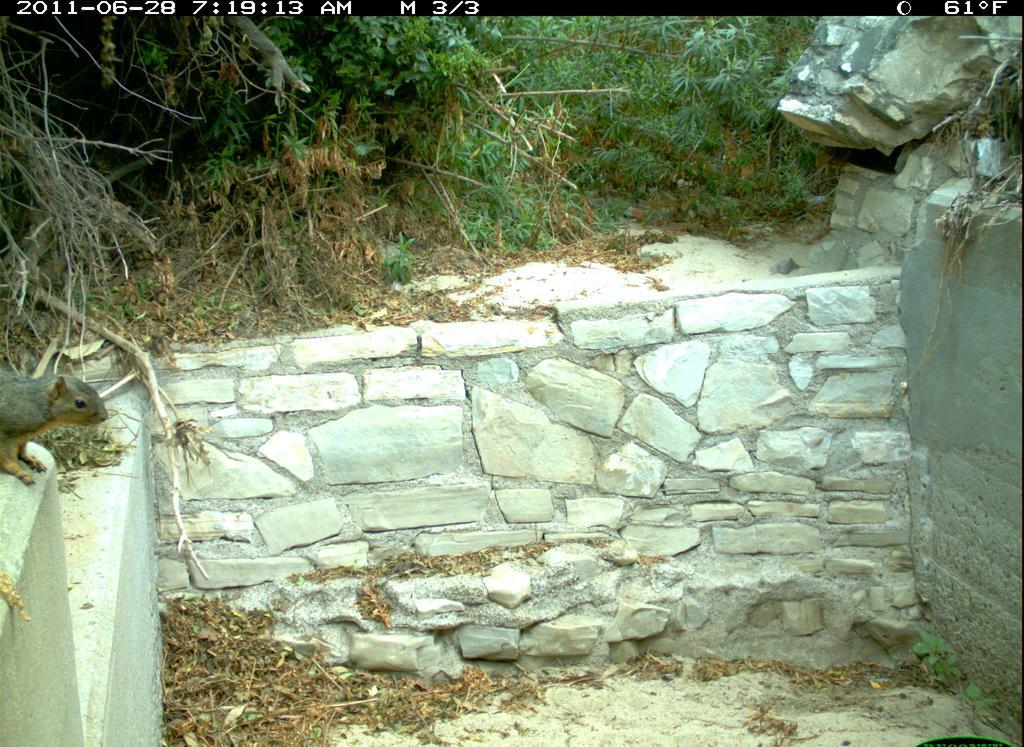squirrel: (2, 335, 118, 520)
